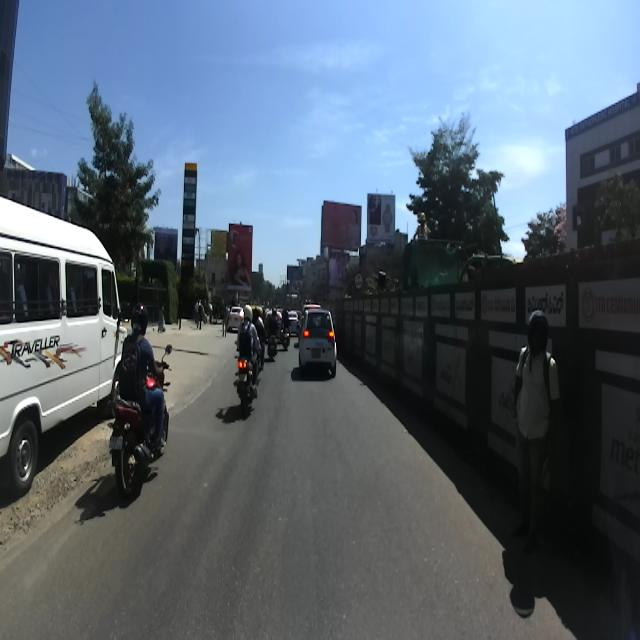bus ahead at: (0, 203, 108, 493)
motorcycle ahead at: (107, 386, 173, 499)
